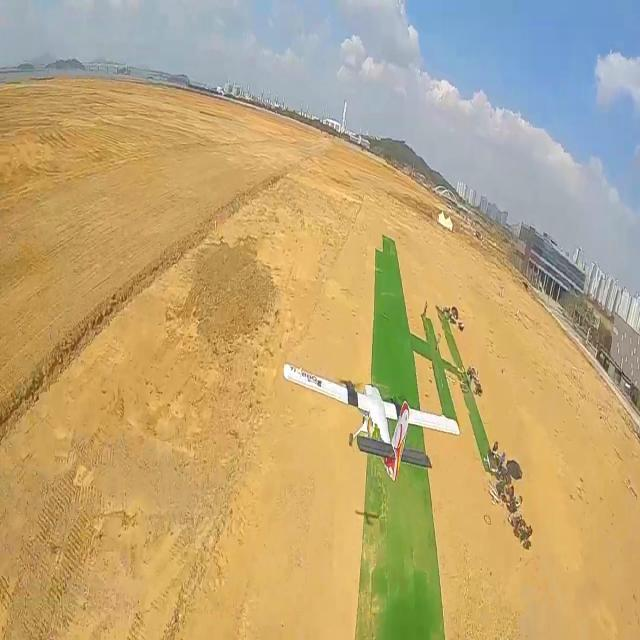iha: (264, 351, 471, 484)
